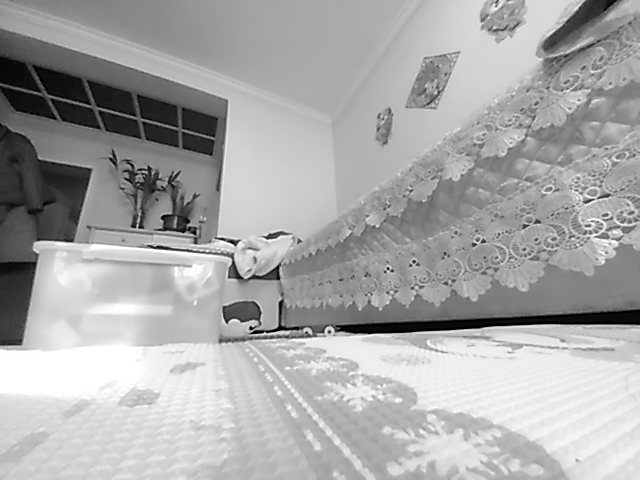toy: (219, 298, 264, 338)
